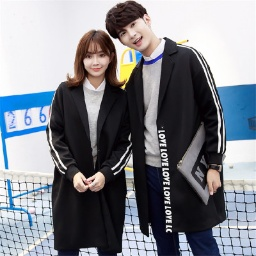face: (74, 29, 119, 85), (106, 1, 158, 48)
